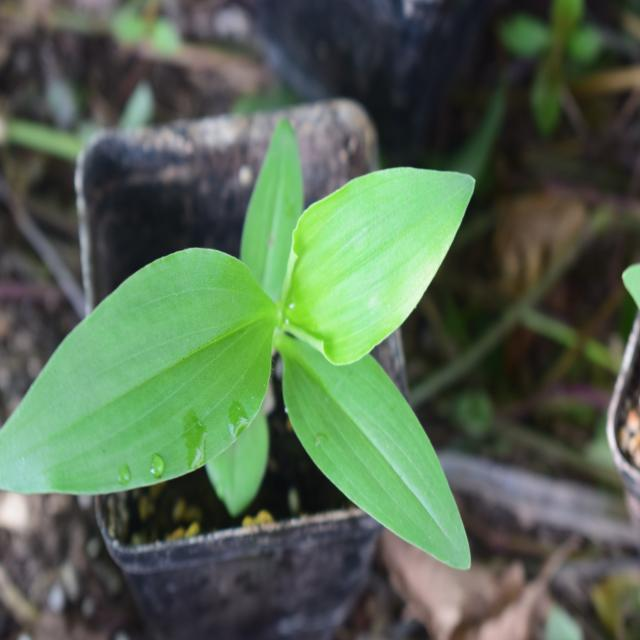Common Dayflower: (14, 147, 478, 571)
